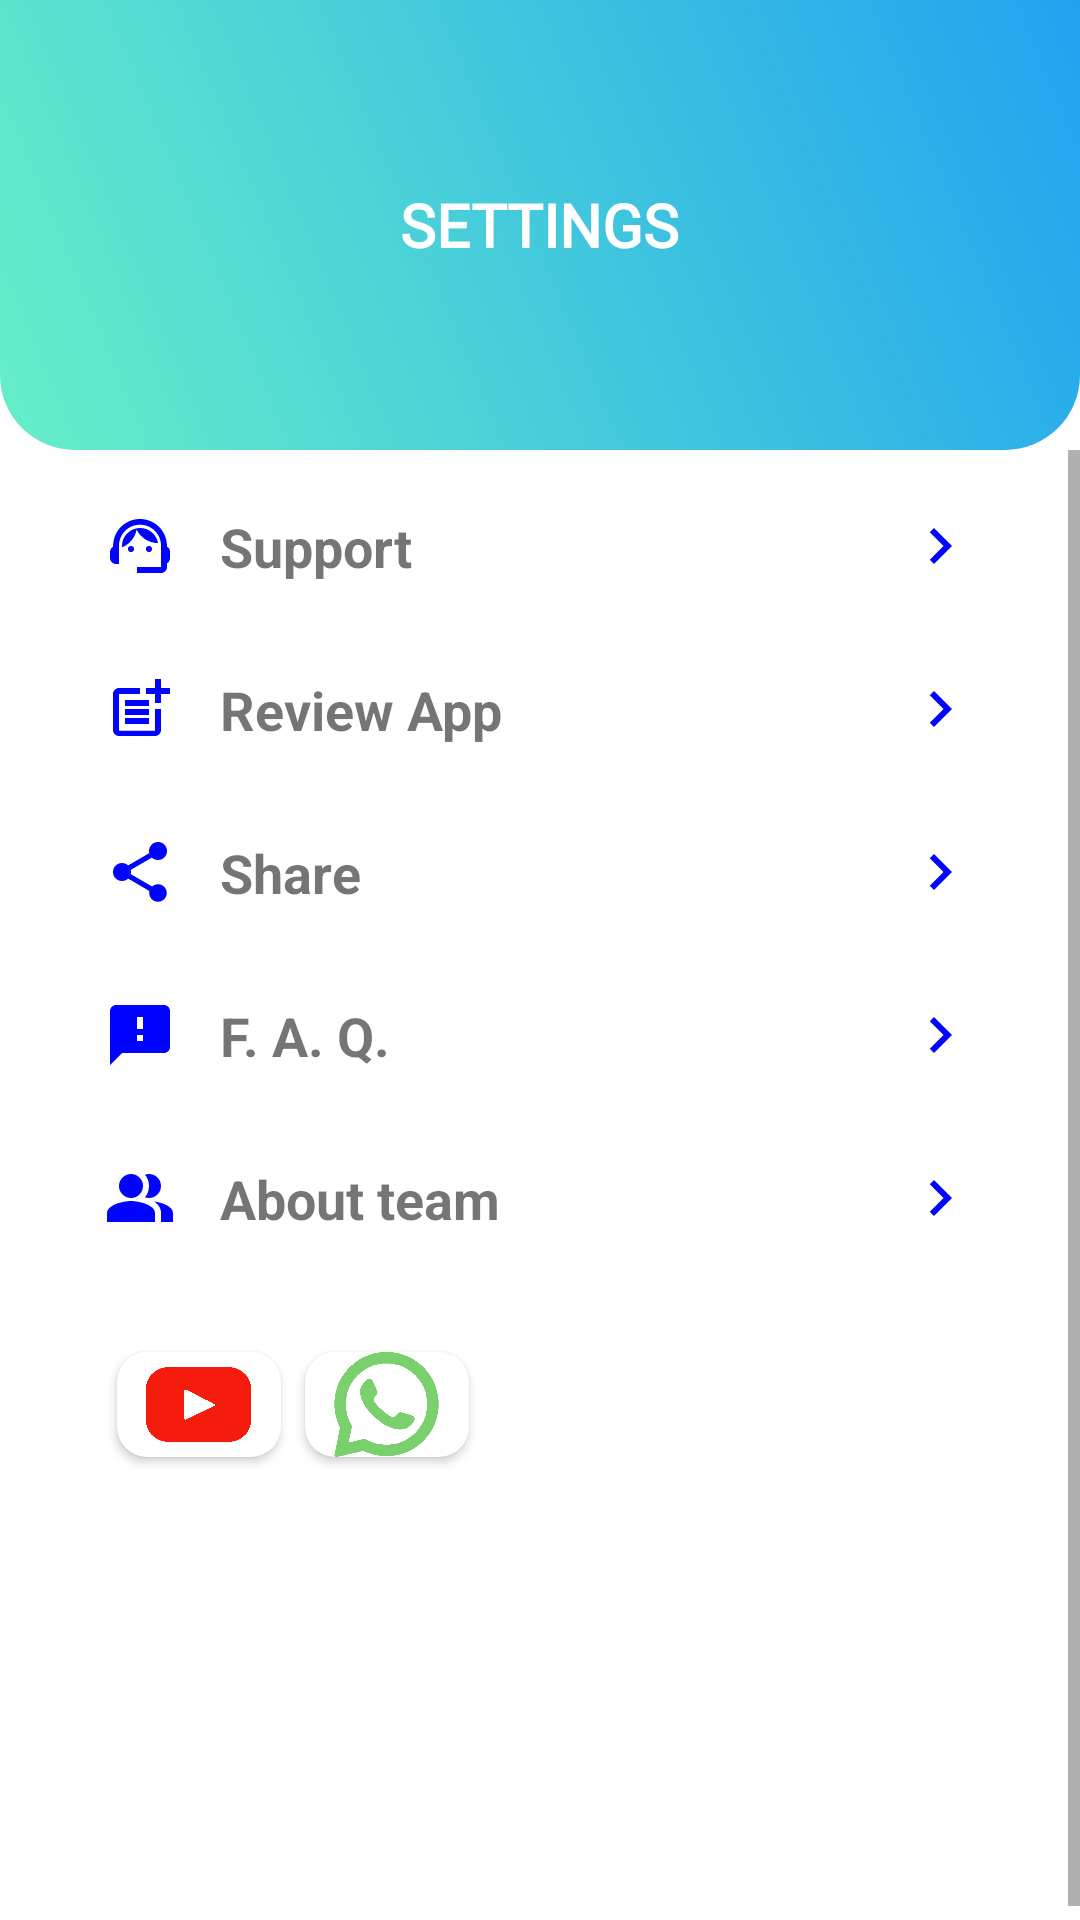

Locate icon controls on the screen. Image size 1080px x 1920px, boxes as [x1=x1, y1=y1, x2=x2, y2=y2].
chevron right: [x1=930, y1=528, x2=952, y2=564], [x1=930, y1=691, x2=952, y2=727], [x1=930, y1=854, x2=952, y2=890], [x1=930, y1=1017, x2=952, y2=1053], [x1=930, y1=1180, x2=952, y2=1216]
feedback: [x1=110, y1=1005, x2=170, y2=1065]
post add: [x1=113, y1=679, x2=170, y2=736]
